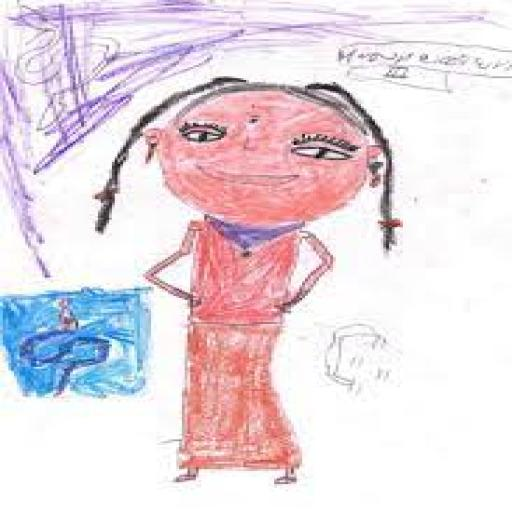person: (82, 71, 407, 504)
